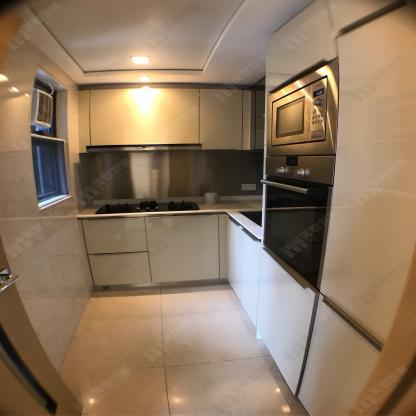Cupboard: (73, 214, 381, 414), (74, 91, 252, 154)
Exhaust Hood: (89, 143, 204, 152)
Oven: (260, 58, 341, 290)
Stove: (95, 200, 199, 213)
